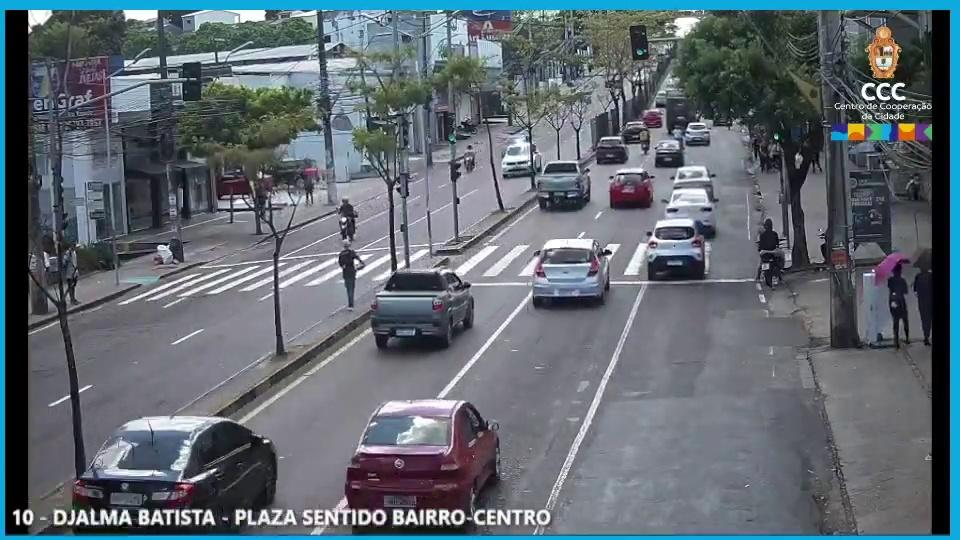biker: (749, 214, 789, 288), (334, 192, 362, 246), (460, 139, 480, 178)
car: (68, 410, 280, 532), (347, 398, 507, 527), (369, 267, 477, 347), (532, 236, 613, 309), (640, 214, 709, 282), (535, 159, 596, 213), (667, 188, 720, 232), (606, 169, 656, 210), (500, 138, 542, 177), (596, 134, 628, 166)
people: (880, 250, 914, 351), (333, 240, 364, 310)
